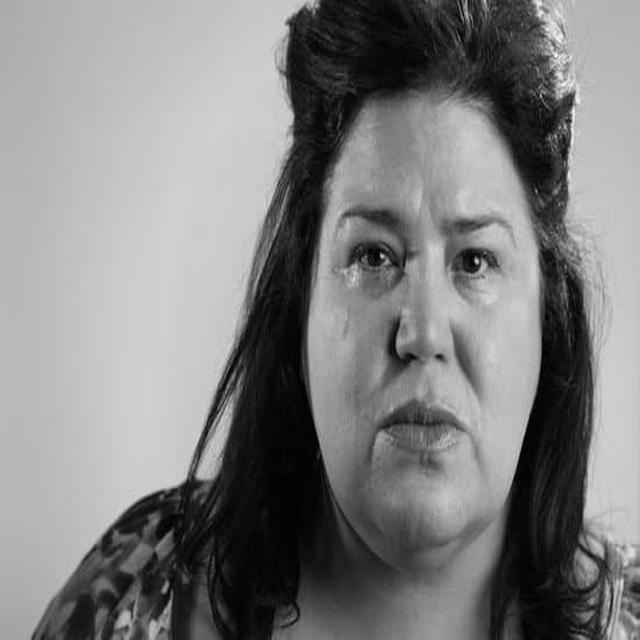Sadness: (318, 90, 542, 550)
